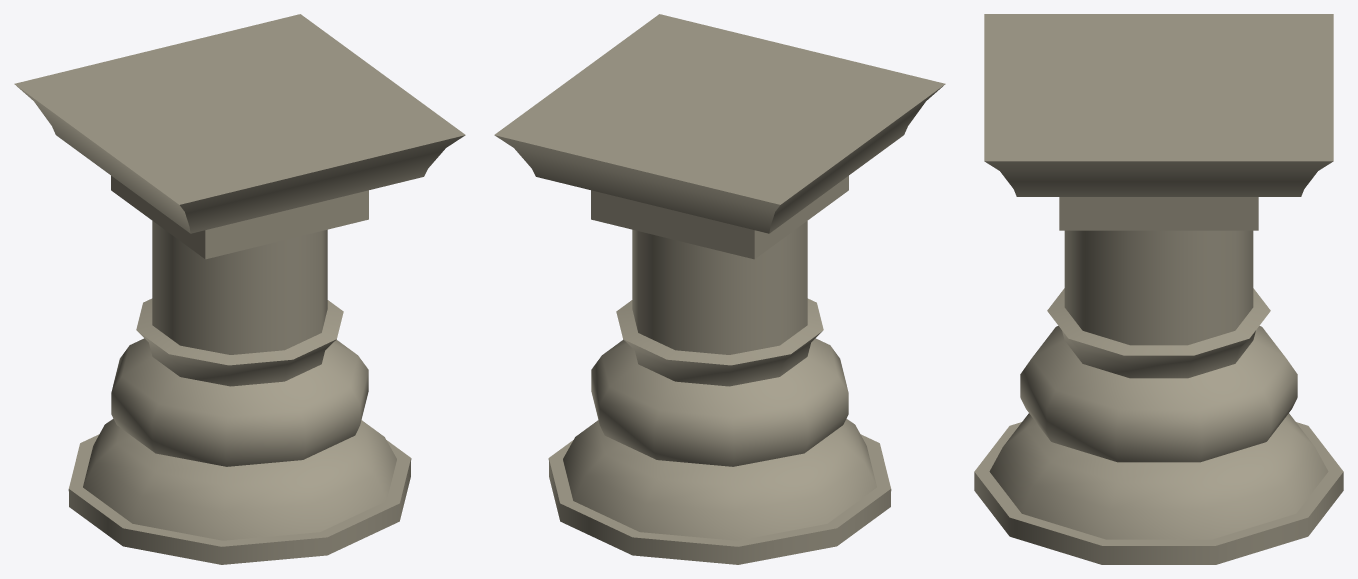
The model's file is Column_Round1.glb.
The picture shows the model from 3 angles, left to right: view 1: azimuth 30°, elevation 25°; view 2: azimuth 150°, elevation 25°; view 3: azimuth 270°, elevation 25°; orthographic projection. The views are drawn at different scales.
Parts seen in each view (by area): view 1: Column_Round1; view 2: Column_Round1; view 3: Column_Round1.
Boxes of the visible parts, <box> form: Column_Round1: <box>14,14,465,564</box>; Column_Round1: <box>494,14,945,564</box>; Column_Round1: <box>974,14,1343,564</box>.
Bounding box in the file's own units: 0.42 × 0.5318 × 0.4416.
